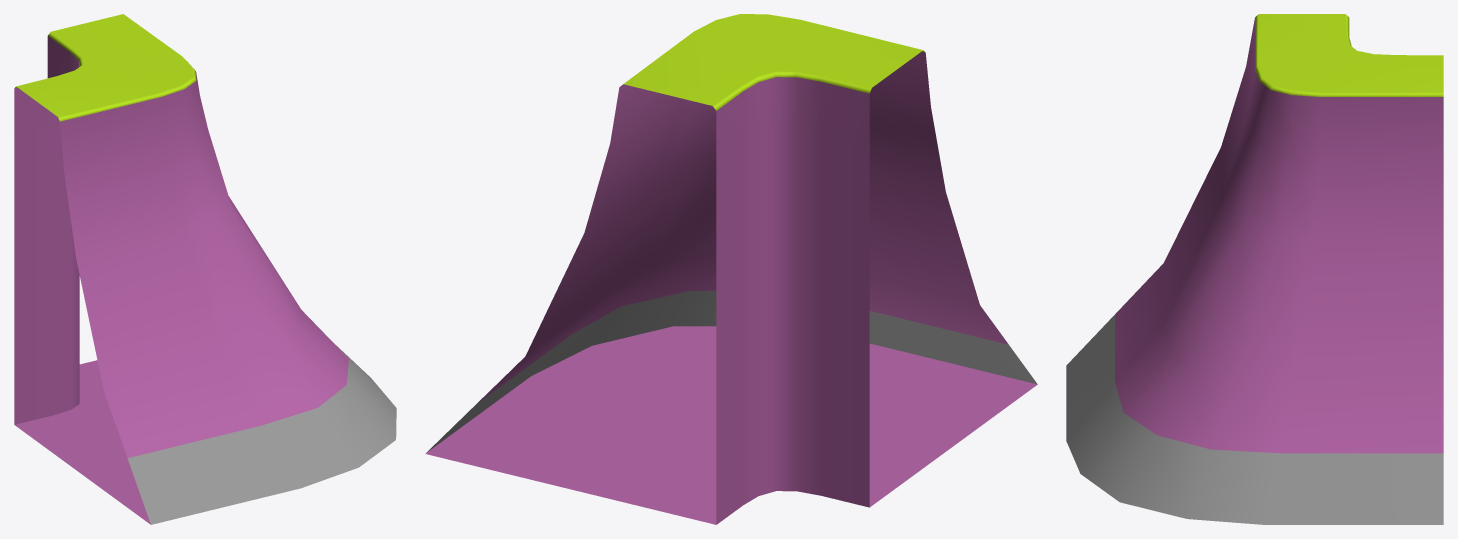
The model's file is S_M_Terrain_Bowl001_2x2x2_LOD0.FBX.
The picture shows the model from 3 angles, left to right: view 1: azimuth 30°, elevation 25°; view 2: azimuth 150°, elevation 25°; view 3: azimuth 270°, elevation 25°; orthographic projection. The views are drawn at different scales.
Parts seen in each view (by area): view 1: S_M_Terrain_Bowl001_2x2x2_LOD0; view 2: S_M_Terrain_Bowl001_2x2x2_LOD0; view 3: S_M_Terrain_Bowl001_2x2x2_LOD0.
Boxes of the visible parts, <box> form: S_M_Terrain_Bowl001_2x2x2_LOD0: <box>14,14,396,524</box>; S_M_Terrain_Bowl001_2x2x2_LOD0: <box>425,14,1037,524</box>; S_M_Terrain_Bowl001_2x2x2_LOD0: <box>1066,14,1443,524</box>.
Bounding box in the file's own units: 200 × 206 × 200.
